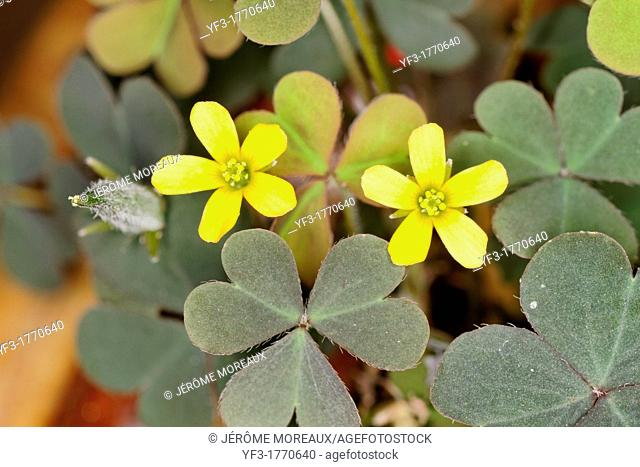oxalis: (127, 54, 640, 432)
